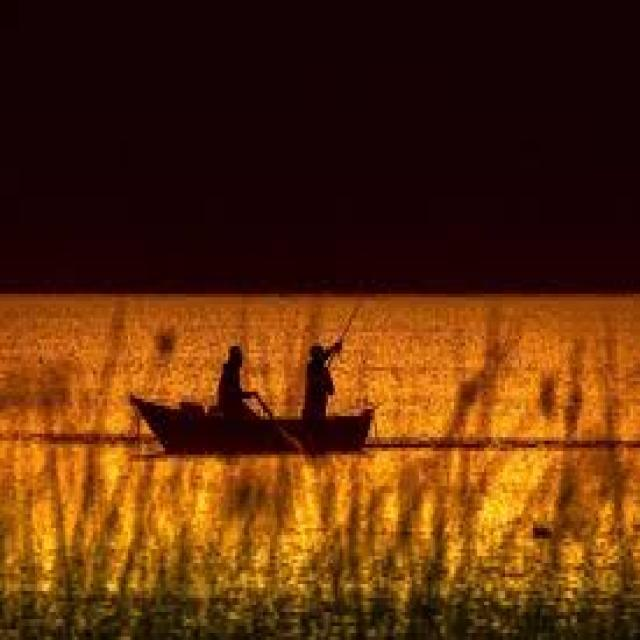ship2: (131, 341, 372, 455)
